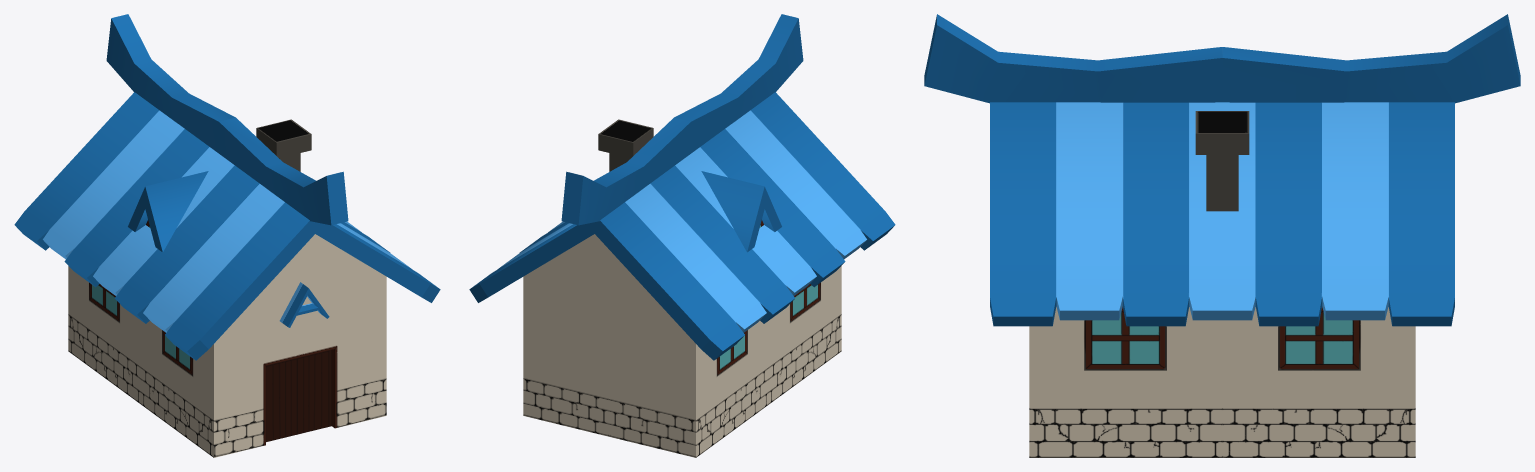
File: HouseFirst.fbx
The picture shows the model from 3 angles, left to right: view 1: azimuth 30°, elevation 25°; view 2: azimuth 150°, elevation 25°; view 3: azimuth 270°, elevation 25°; orthographic projection. The views are drawn at different scales.
Parts seen in each view (by area): view 1: HomeFirst; view 2: HomeFirst; view 3: HomeFirst.
Boxes of the visible parts, box(x1,y1,x2,y2) form: HomeFirst: box(14, 14, 440, 457); HomeFirst: box(469, 14, 895, 457); HomeFirst: box(924, 14, 1520, 457).
Size of the model in its own units: 217 by 236 by 334.
1 material, 1 textured.
